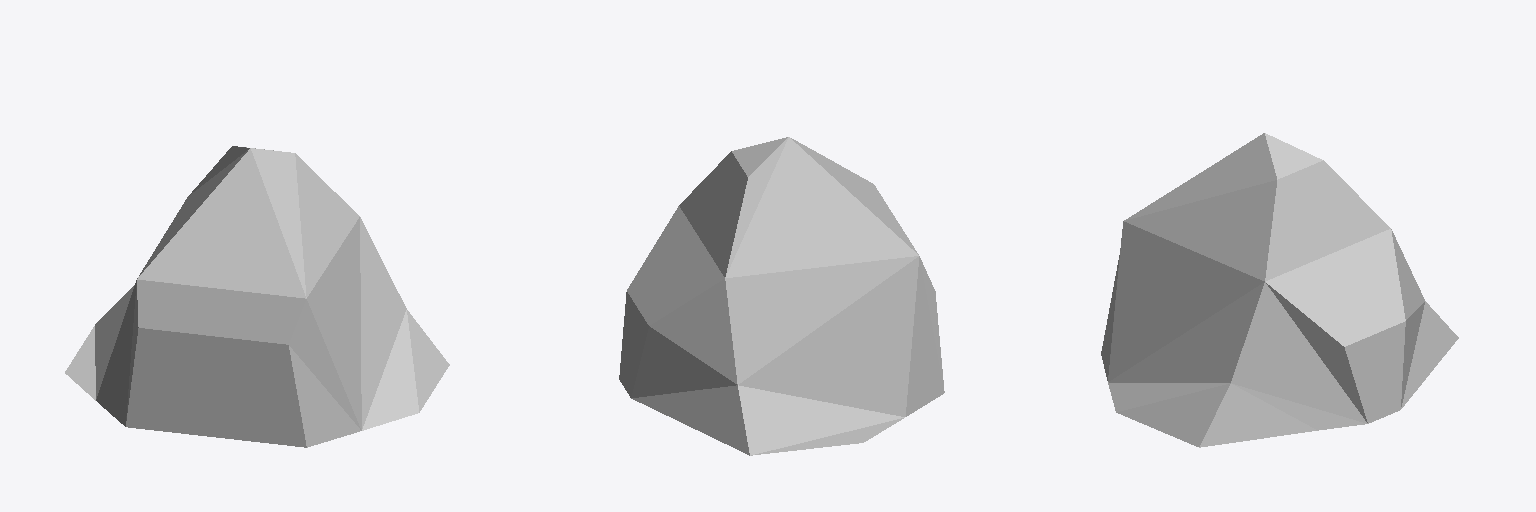
The model's file is mLv1Rock04.obj.
3 renders of one model, left to right at view 1: azimuth 30°, elevation 25°; view 2: azimuth 150°, elevation 25°; view 3: azimuth 270°, elevation 25°, orthographic.
Visible parts, largest first — view 1: mStoneBolder7; view 2: mStoneBolder7; view 3: mStoneBolder7.
Boxes of the visible parts, box(x1,y1,x2,y2) form: mStoneBolder7: box(65, 146, 449, 447); mStoneBolder7: box(619, 137, 944, 455); mStoneBolder7: box(1101, 133, 1458, 447).
Bounding box in the file's own units: 6.62 × 4.82 × 6.69.